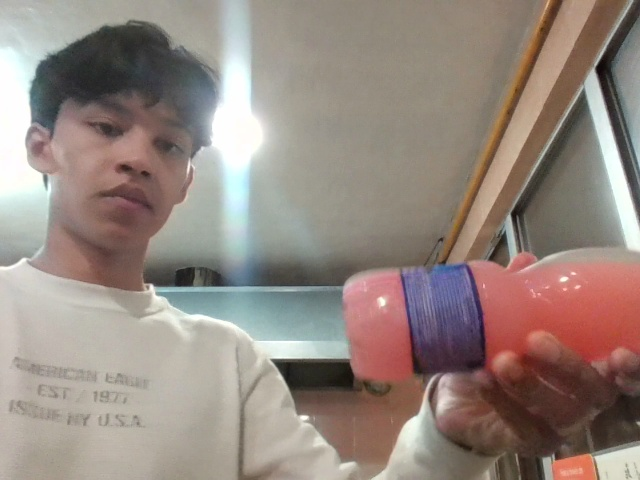botella: (301, 239, 640, 416)
